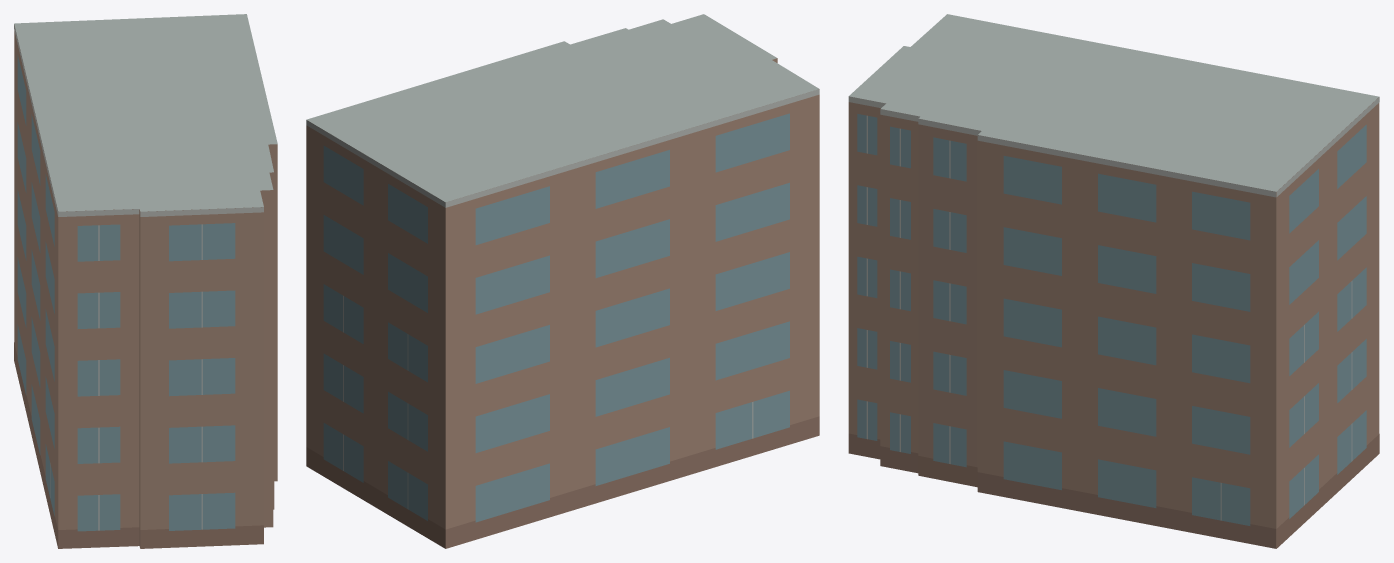
Rendered from survey-upis-32970516.glb.
The picture shows the model from 3 angles, left to right: view 1: azimuth 30°, elevation 25°; view 2: azimuth 150°, elevation 25°; view 3: azimuth 270°, elevation 25°; orthographic projection. The views are drawn at different scales.
Parts seen in each view (by area): view 1: survey-upis-32970516.tmp; view 2: survey-upis-32970516.tmp; view 3: survey-upis-32970516.tmp.
Boxes of the visible parts, bbox=[...] form: survey-upis-32970516.tmp: bbox=[14, 14, 277, 548]; survey-upis-32970516.tmp: bbox=[306, 14, 819, 548]; survey-upis-32970516.tmp: bbox=[848, 14, 1379, 548].
Bounding box in the file's own units: 16.3 × 15.25 × 20.55.
